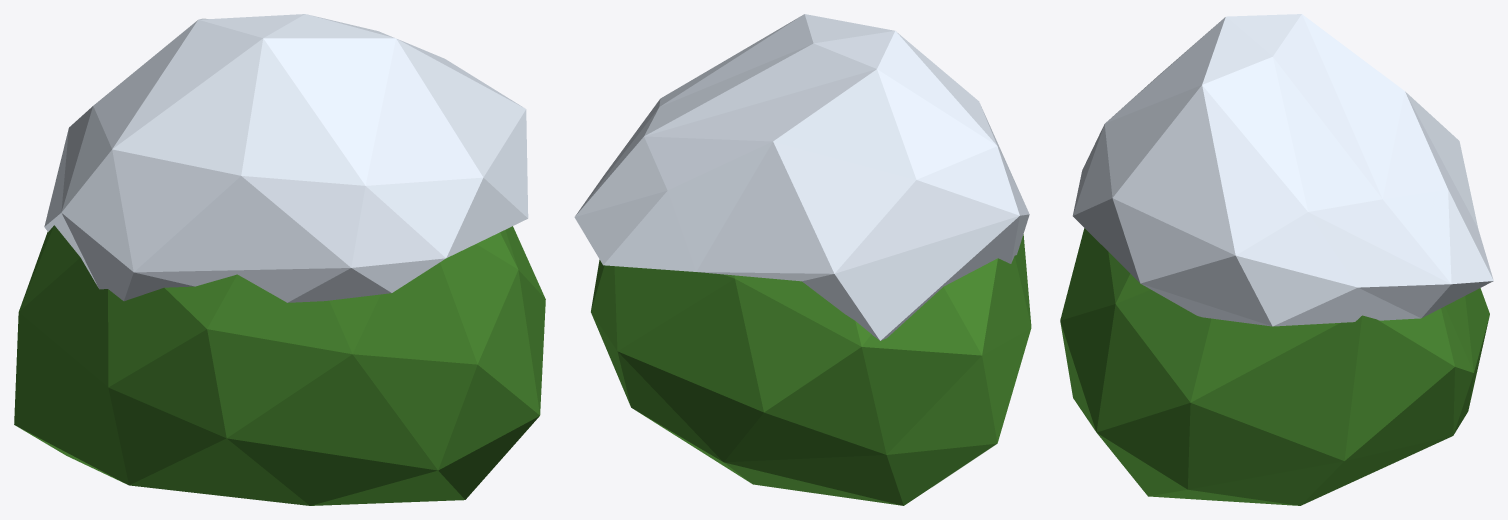
The model's file is Bush2.fbx.
3 renders of one model, left to right at view 1: azimuth 30°, elevation 25°; view 2: azimuth 150°, elevation 25°; view 3: azimuth 270°, elevation 25°, orthographic. The views are drawn at different scales.
Visible parts, largest first — view 1: Icosphere.005, Icosphere.013; view 2: Icosphere.013, Icosphere.005; view 3: Icosphere.013, Icosphere.005.
Part boxes in pixels (x1,y1,x2,y2): Icosphere.005: (14, 225, 545, 505); Icosphere.013: (44, 14, 528, 302); Icosphere.013: (574, 14, 1029, 340); Icosphere.005: (591, 234, 1031, 505); Icosphere.013: (1072, 14, 1493, 326); Icosphere.005: (1060, 228, 1489, 505).
Size of the model in its own units: 157 by 153 by 144.
